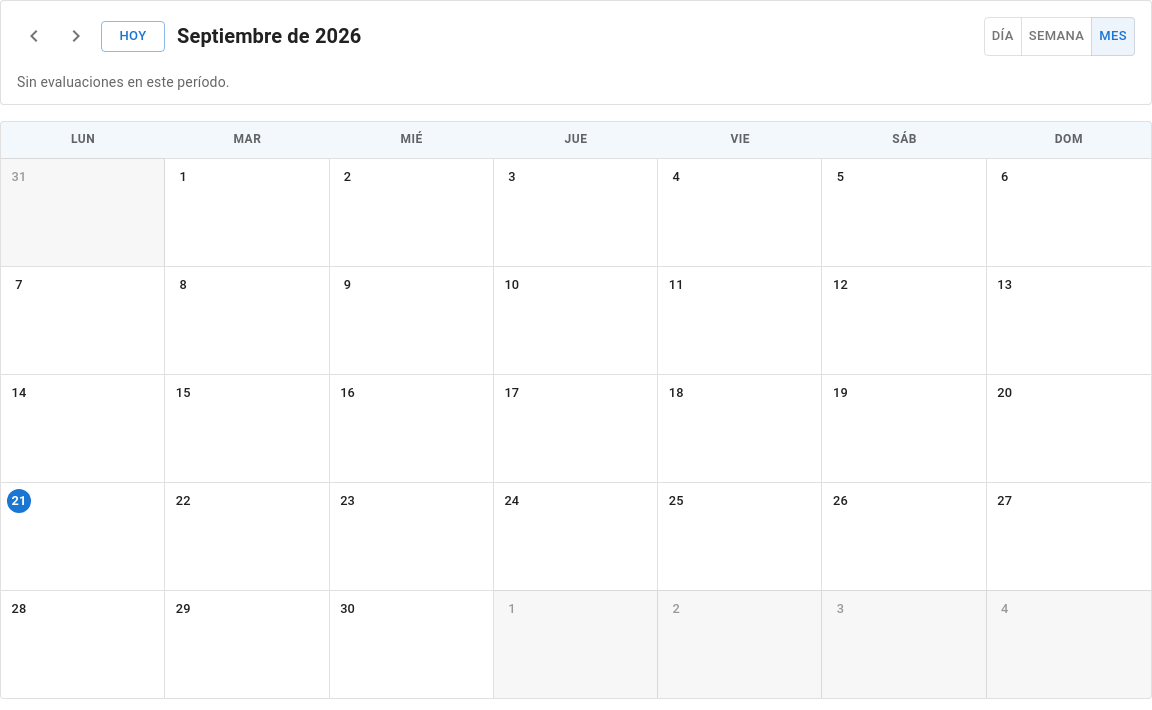
Test case: CalendarioEvaluador › navegación › avanza y retrocede de mes y vuelve a pedir el rango nuevo
Click the button named "Período siguiente".
click(76, 36)  # box [59,19,93,53]
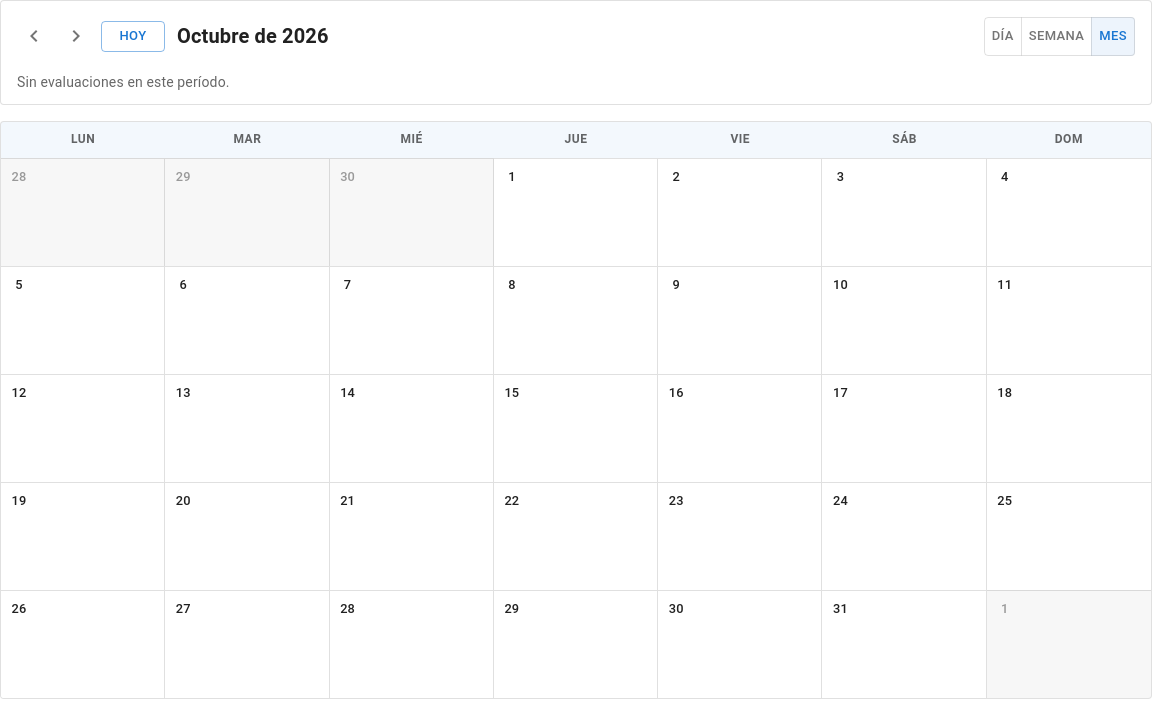
Check: the heading "Octubre de 2026" is shown, box [177,20,329,52]
Click the button named "Período anterior".
click(34, 36)  # box [17,19,51,53]
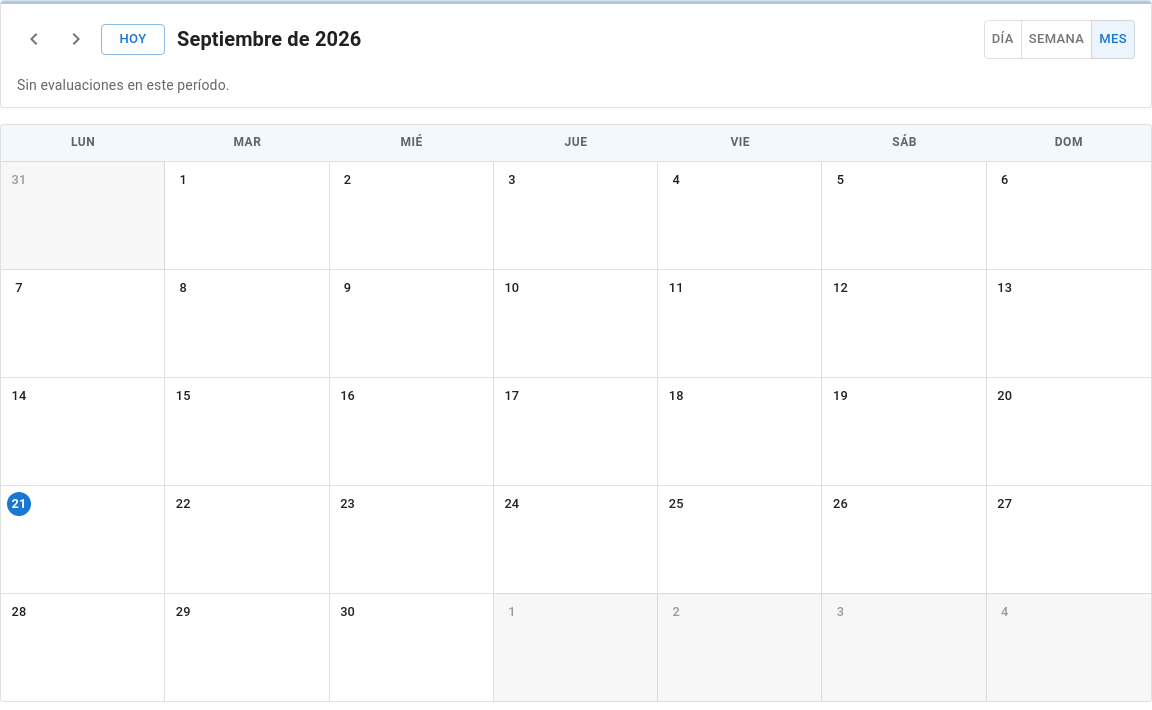
Click the button named "Período anterior".
click(34, 39)  # box [17,22,51,56]
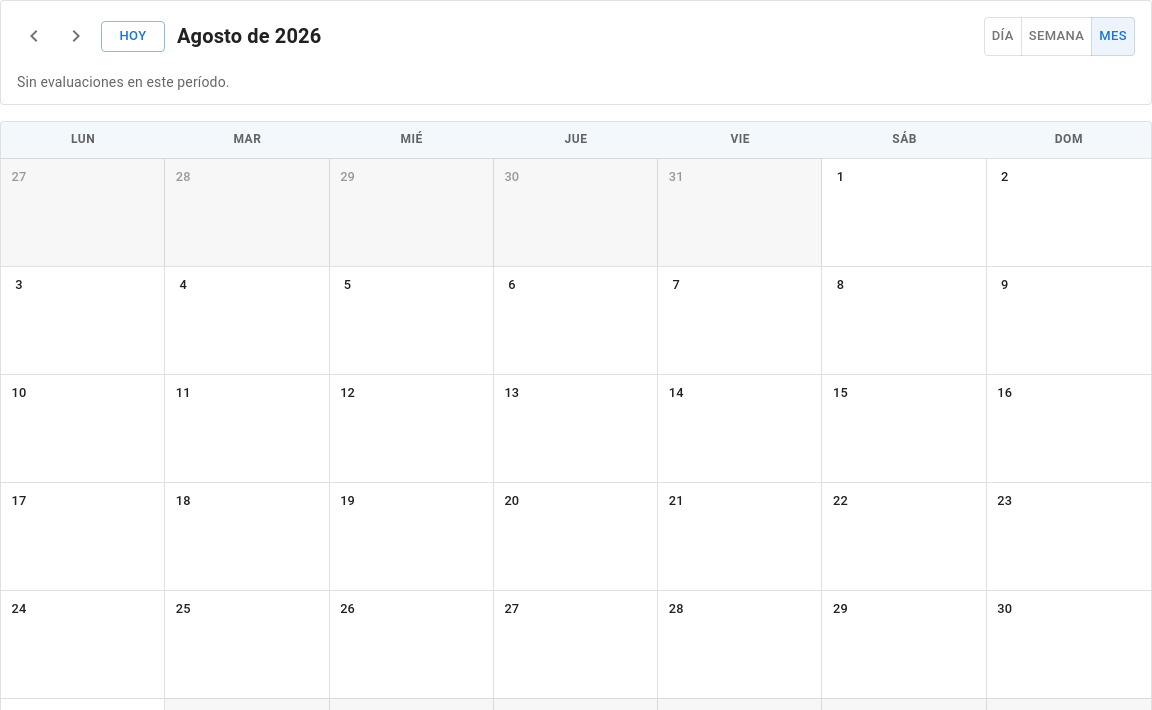
Check: the heading "Agosto de 2026" is shown, box [177,20,321,52]
